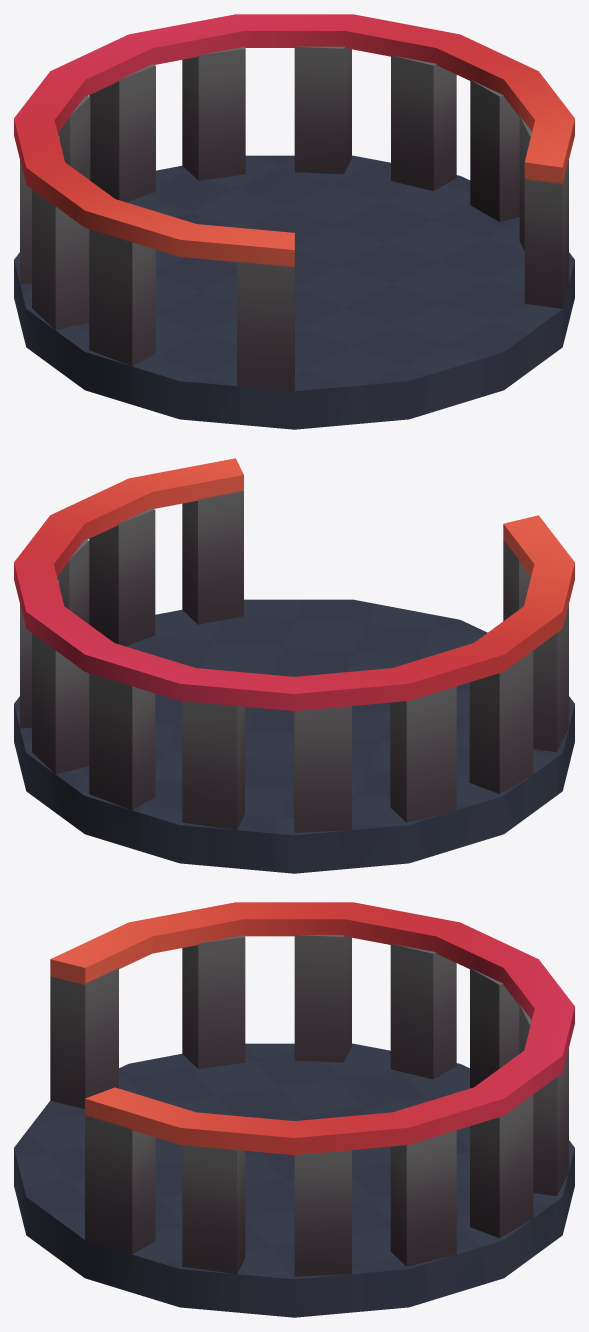
The model's file is SpinPlatform.fbx.
The picture shows the model from 3 angles, top to bottom: view 1: azimuth 30°, elevation 25°; view 2: azimuth 150°, elevation 25°; view 3: azimuth 270°, elevation 25°; orthographic projection.
Parts seen in each view (by area): view 1: SpinPart, Base; view 2: SpinPart, Base; view 3: SpinPart, Base.
Boxes of the visible parts, box(x1,y1,x2,y2) form: SpinPart: box(14, 14, 574, 391); Base: box(14, 155, 574, 429); SpinPart: box(14, 458, 574, 832); Base: box(14, 599, 574, 873); SpinPart: box(50, 902, 574, 1276); Base: box(14, 1043, 574, 1317).
Size of the model in its own units: 2.54 by 0.9012 by 2.55.
1 material, 1 textured.
